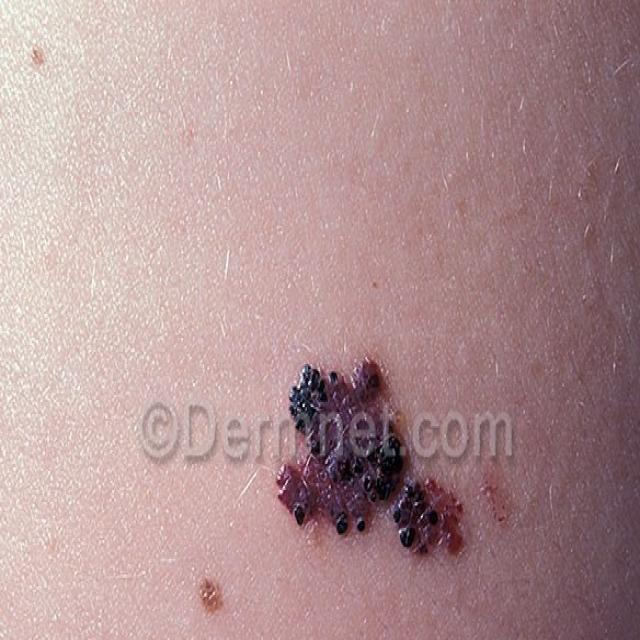Vascular Tumors: (265, 330, 483, 631)
